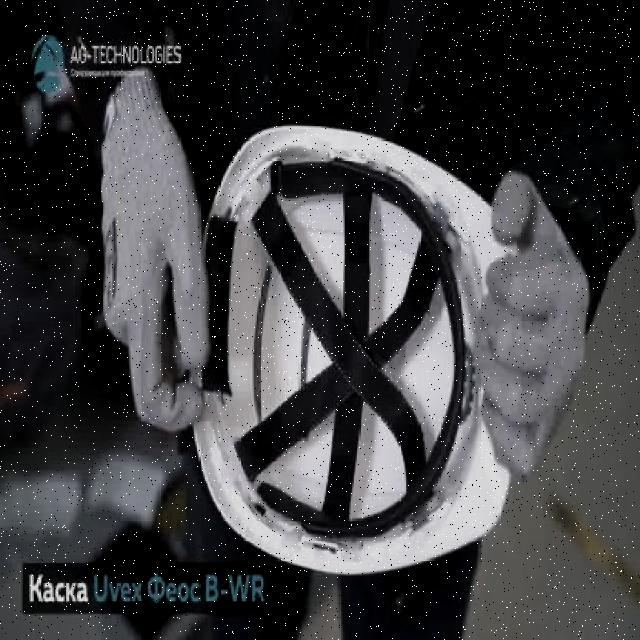Gloves: (96, 64, 212, 430), (472, 165, 592, 484)
Helmet: (187, 118, 522, 580)
